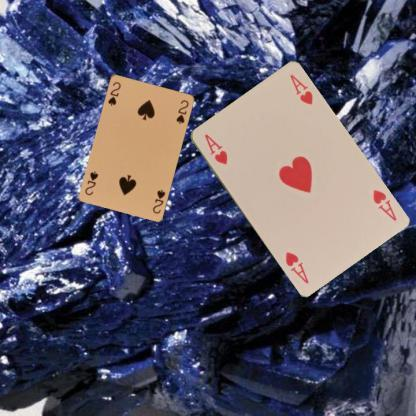2s: (105, 79, 122, 107), (150, 187, 166, 215)
Ah: (369, 186, 398, 222), (201, 131, 229, 166)
